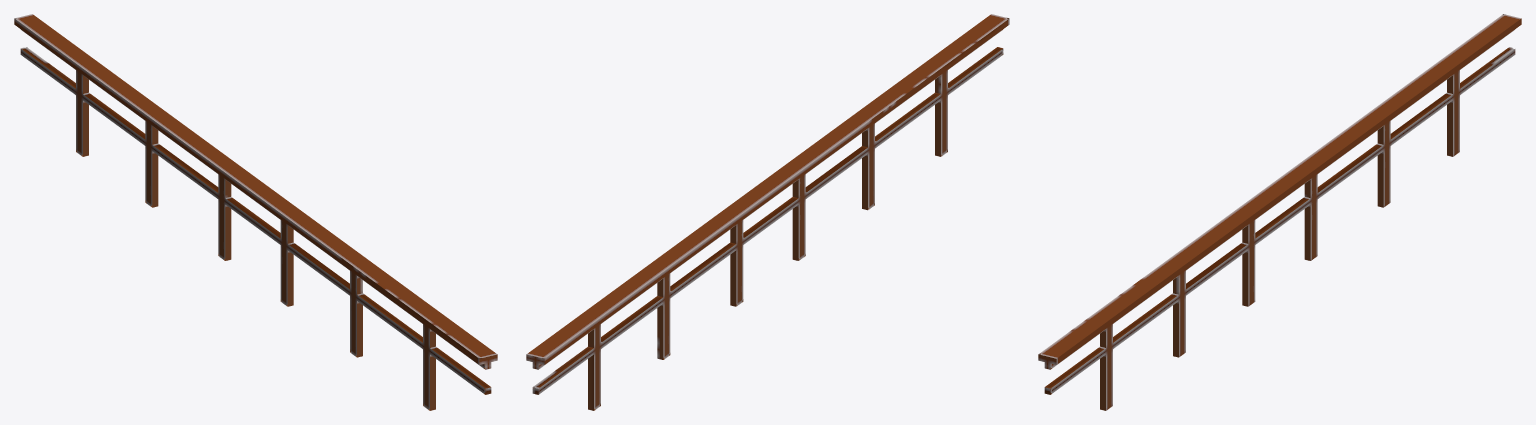
File: Corrimao.fbx
The picture shows the model from 3 angles, left to right: view 1: azimuth 30°, elevation 25°; view 2: azimuth 150°, elevation 25°; view 3: azimuth 330°, elevation 25°; orthographic projection.
Visible parts, largest first — view 1: Trapiches-1; view 2: Trapiches-1; view 3: Trapiches-1.
Part boxes in pixels (<box>): Trapiches-1: <box>14,14,497,410</box>; Trapiches-1: <box>526,14,1009,410</box>; Trapiches-1: <box>1038,14,1521,410</box>.
Bounding box in the file's own units: 30 × 150 × 1340.
Materials: 1 (1 with a texture image).
